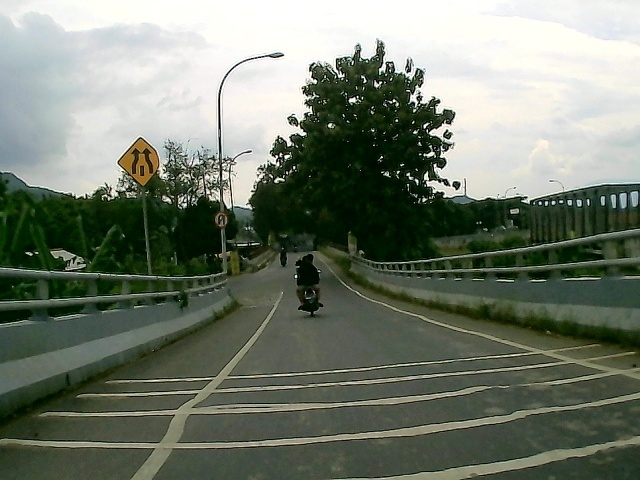Akhir bangunan pemisah satu arah: (114, 134, 166, 189)
Dilarang berbalik arah: (213, 210, 231, 229)
